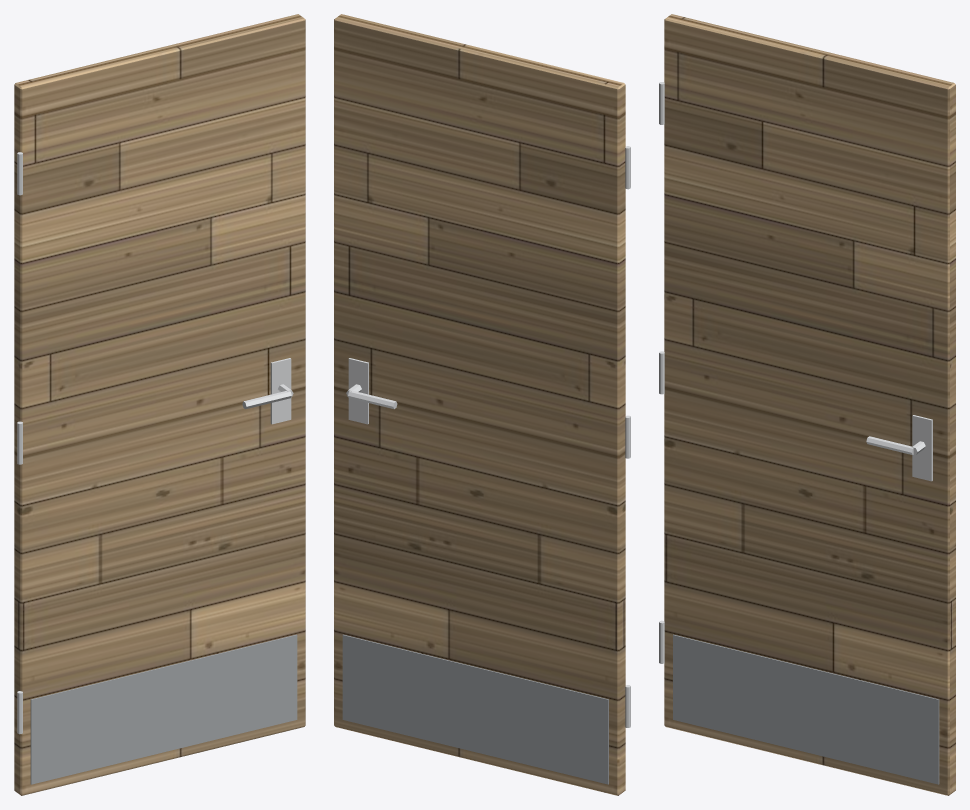
The model's file is door_bath.glb.
3 views of the same model, side by side, from view 1: azimuth 30°, elevation 25°; view 2: azimuth 150°, elevation 25°; view 3: azimuth 330°, elevation 25° (orthographic).
Visible parts, largest first — view 1: door_bath_laminate, door_bath_steel, door_bath_chrome; view 2: door_bath_laminate, door_bath_steel, door_bath_chrome; view 3: door_bath_laminate, door_bath_steel, door_bath_chrome.
Boxes of the visible parts, x1=… form: door_bath_laminate: x1=14, y1=14, x2=305, y2=795; door_bath_steel: x1=30, y1=634, x2=297, y2=784; door_bath_chrome: x1=17, y1=152, x2=293, y2=734; door_bath_laminate: x1=334, y1=14, x2=625, y2=795; door_bath_steel: x1=342, y1=634, x2=608, y2=784; door_bath_chrome: x1=346, y1=146, x2=630, y2=727; door_bath_laminate: x1=664, y1=14, x2=955, y2=795; door_bath_steel: x1=673, y1=634, x2=939, y2=784; door_bath_chrome: x1=659, y1=82, x2=932, y2=663.
Size of the model in its own units: 0.892 by 2.09 by 0.162.
3 materials, 1 textured.
